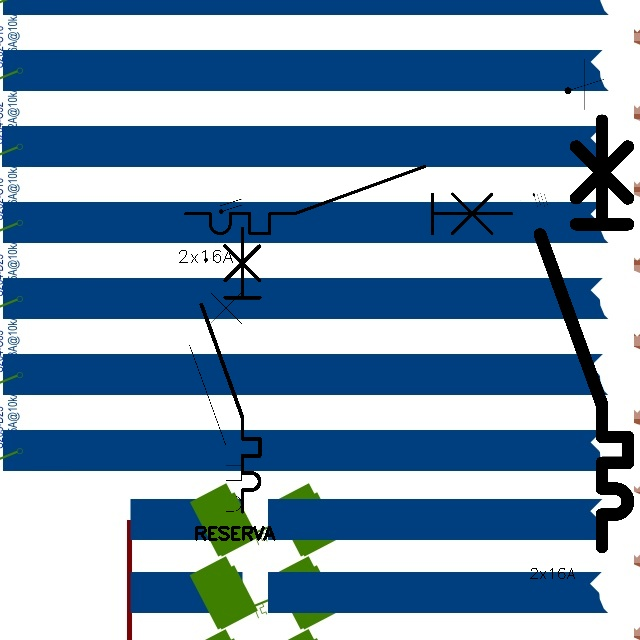interruptor_termomagnetico: (529, 109, 639, 557), (177, 158, 520, 242), (194, 221, 267, 519), (183, 271, 248, 537)
